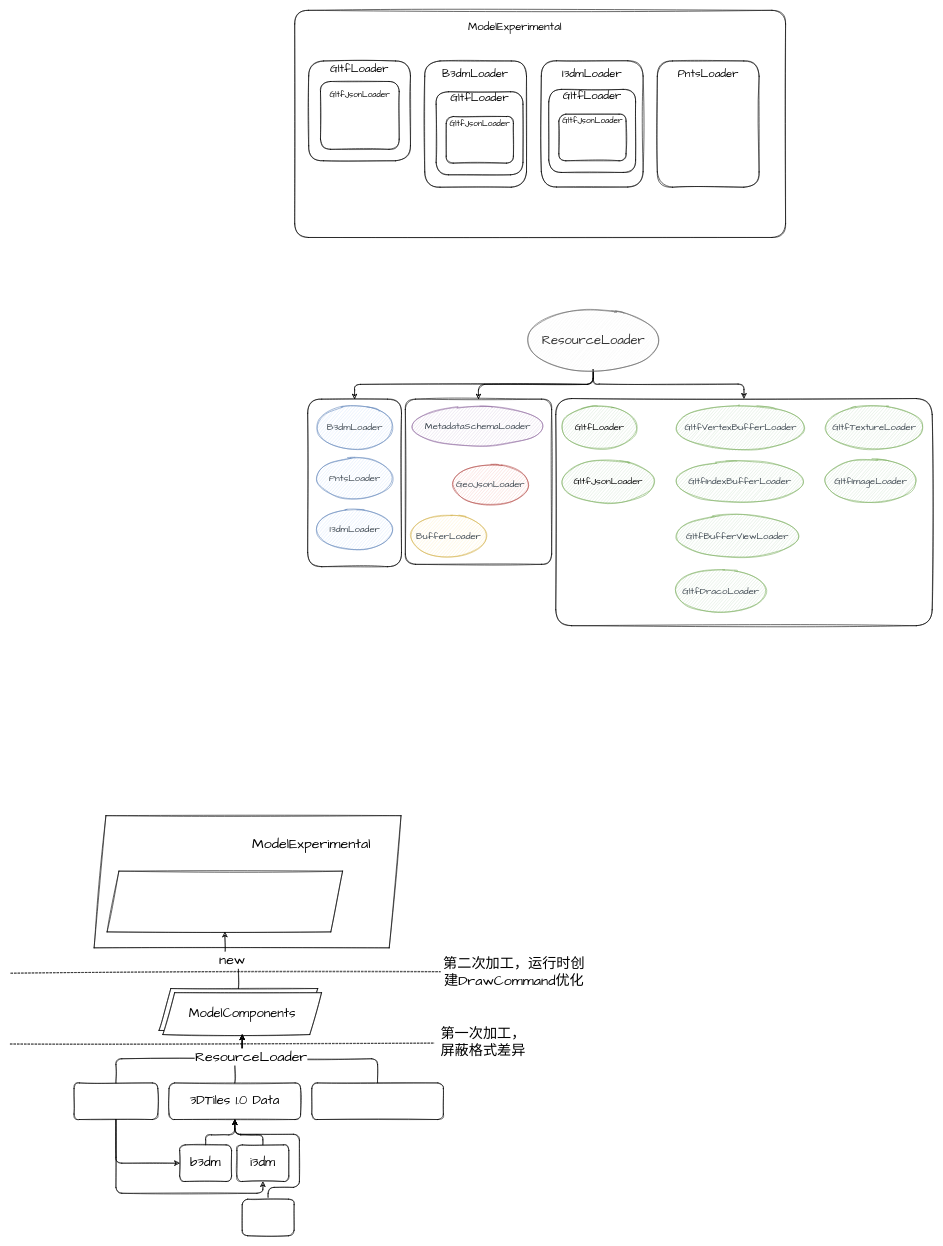
Image size: 943x1246. Some labels were removed from this diagram. Each missing label, with the box of its shape:
GeoJSON Data: (311, 1082, 443, 1120)
glTF Data: (73, 1082, 158, 1120)
ModelExperimentalSceneGraph: (106, 871, 343, 932)
pnts: (242, 1199, 294, 1236)
